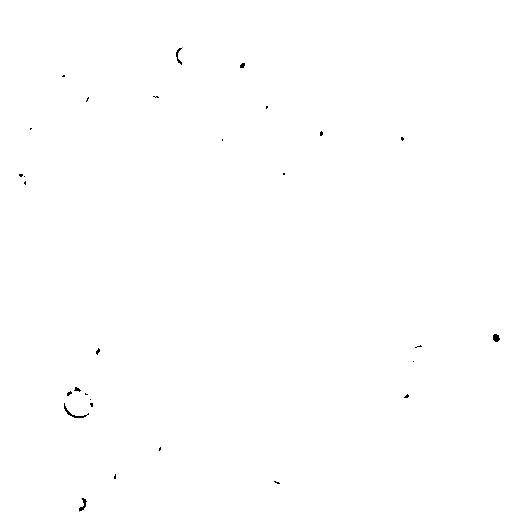micro-algae: (286, 239, 354, 313), (317, 422, 383, 484), (297, 471, 354, 512), (68, 17, 113, 63), (382, 349, 423, 391), (37, 32, 78, 72), (79, 332, 121, 369), (411, 387, 448, 423), (300, 83, 337, 118), (117, 268, 155, 302), (59, 387, 95, 419), (65, 321, 97, 357), (480, 316, 509, 353), (224, 50, 258, 81), (252, 88, 282, 122), (203, 47, 236, 77), (409, 298, 439, 329), (206, 118, 233, 152), (268, 155, 297, 185), (392, 124, 419, 156), (117, 397, 142, 430), (290, 25, 319, 51), (304, 122, 333, 148), (65, 367, 87, 397), (84, 89, 106, 118), (60, 64, 85, 89), (409, 343, 434, 368), (117, 227, 143, 251), (175, 269, 199, 295), (141, 356, 165, 381), (332, 115, 359, 137), (499, 392, 512, 437), (41, 75, 66, 98), (468, 260, 489, 287), (268, 463, 293, 484), (208, 273, 231, 295), (286, 131, 305, 157), (176, 44, 198, 66), (313, 483, 333, 507), (113, 461, 130, 489), (363, 220, 386, 240), (427, 0, 462, 13), (143, 435, 164, 456), (393, 327, 413, 347), (393, 384, 413, 404), (67, 495, 89, 512), (478, 394, 497, 413), (345, 503, 379, 512), (98, 503, 130, 512), (14, 119, 33, 133), (136, 301, 149, 319), (27, 0, 53, 8), (16, 172, 27, 190)
